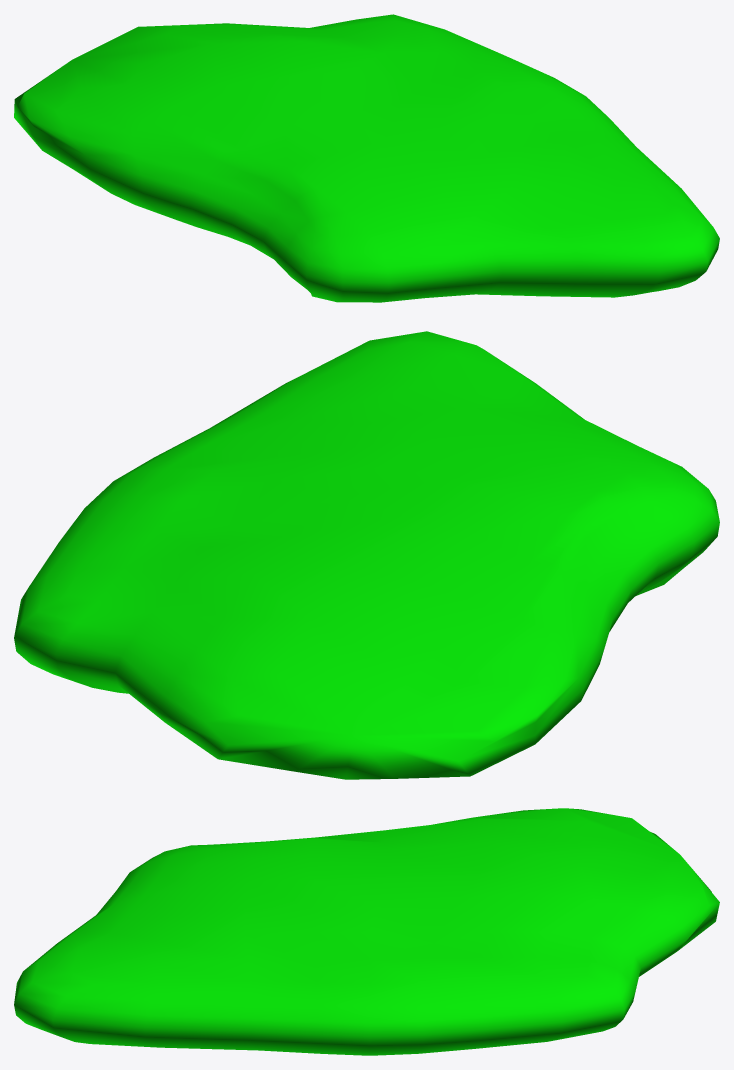
The model's file is FloatingIsland.fbx.
3 views of the same model, one above another, from view 1: azimuth 30°, elevation 25°; view 2: azimuth 150°, elevation 25°; view 3: azimuth 270°, elevation 25° (orthographic). The views are drawn at different scales.
Parts seen in each view (by area): view 1: Island; view 2: Island; view 3: Island.
Boxes of the visible parts, <box> form: Island: <box>14,14,719,302</box>; Island: <box>14,331,719,779</box>; Island: <box>14,808,719,1055</box>.
Size of the model in its own units: 45.41 by 11.95 by 64.25.
